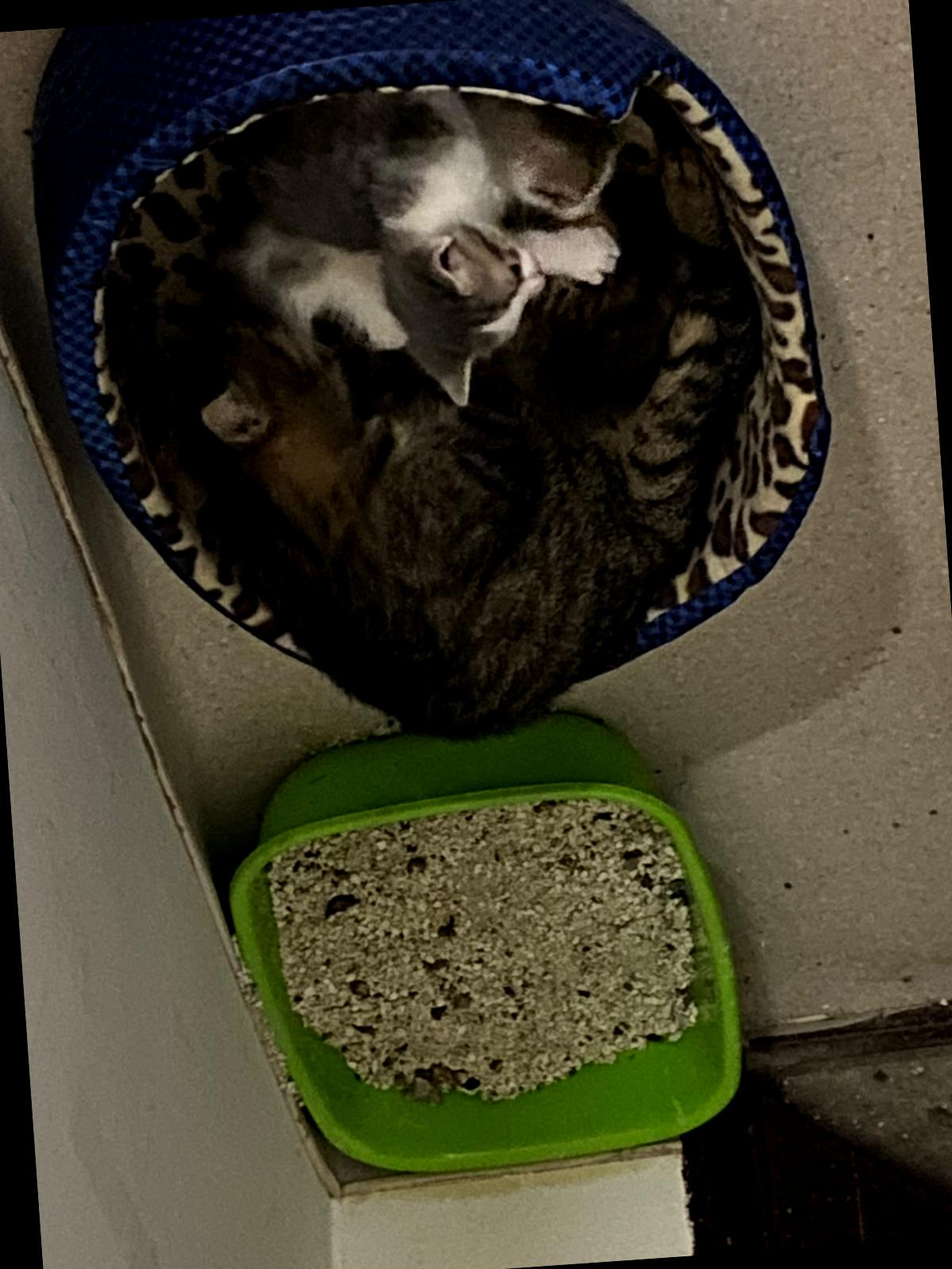macka: (142, 263, 777, 757), (232, 80, 552, 423), (475, 81, 663, 228)
